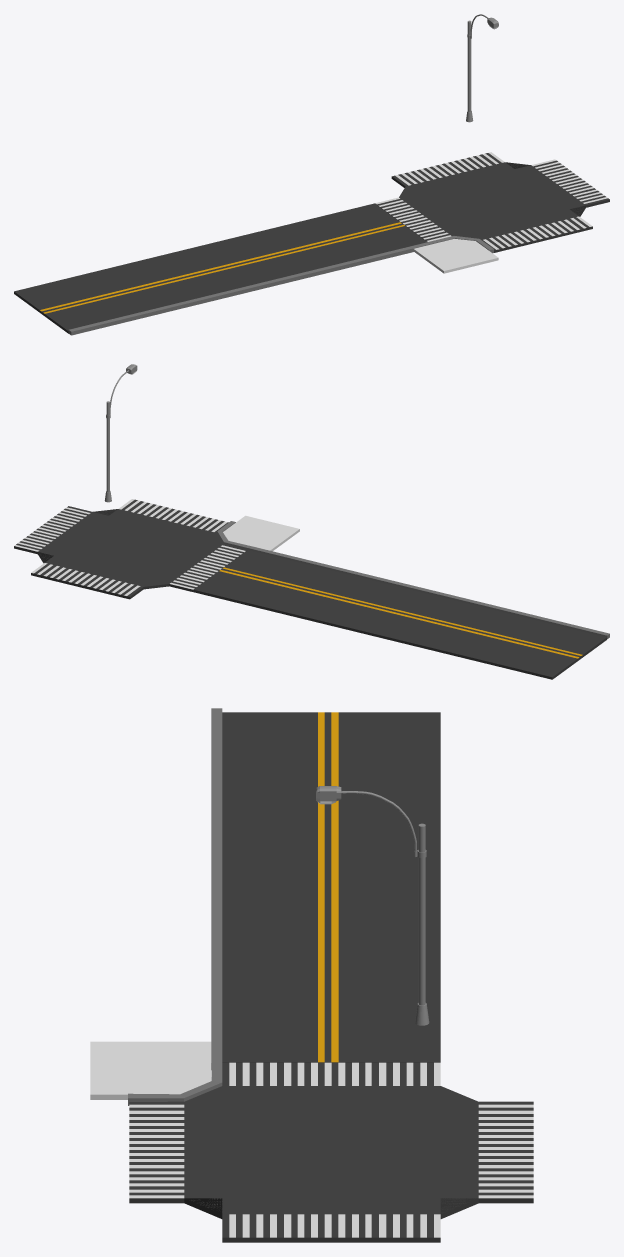
The model's file is poste 1.fbx.
3 views of the same model, one above another, from view 1: azimuth 30°, elevation 25°; view 2: azimuth 150°, elevation 25°; view 3: azimuth 270°, elevation 25° (orthographic). The views are drawn at different scales.
Visible parts, largest first — view 1: Rua reta, intersecssao, reta, encaixe intersecção, poste de lux; view 2: Rua reta, intersecssao, reta, encaixe intersecção, poste de lux; view 3: Rua reta, intersecssao, encaixe intersecção, reta, poste de lux, curva.
Boxes of the visible parts, <box> form: Rua reta: <box>14,203,427,333</box>; intersecssao: <box>375,152,609,252</box>; reta: <box>68,242,431,335</box>; encaixe intersecção: <box>413,239,498,273</box>; poste de lux: <box>466,14,498,122</box>; Rua reta: <box>193,550,606,679</box>; intersecssao: <box>14,499,247,599</box>; reta: <box>248,546,609,639</box>; encaixe intersecção: <box>223,515,299,551</box>; poste de lux: <box>104,364,137,502</box>; Rua reta: <box>222,712,440,1062</box>; intersecssao: <box>129,1062,533,1242</box>; encaixe intersecção: <box>90,1041,211,1099</box>; reta: <box>211,708,222,1058</box>; poste de lux: <box>316,786,429,1025</box>; curva: <box>128,1058,222,1105</box>.
Bounding box in the file's own units: 45021 × 14682 × 16054.
